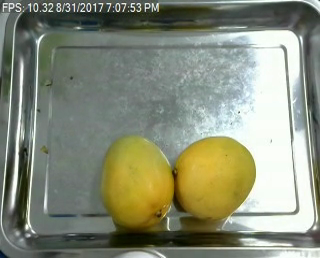Mango: (172, 139, 255, 219), (100, 137, 174, 226)
